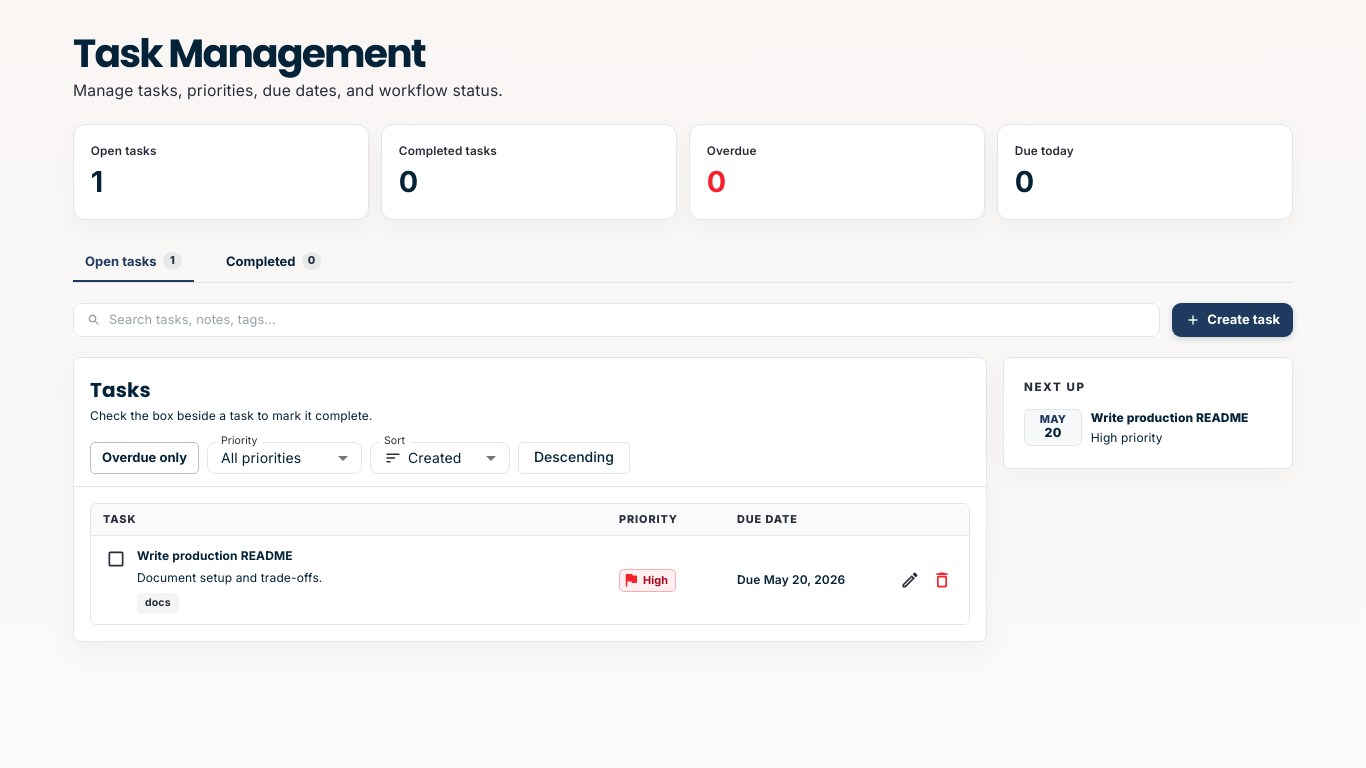
Task Management UI › rolls back an optimistic completion toggle when the API fails
The width and height of the screenshot is (1366, 768).
Click the checkbox named "Mark Write production README complete": (116, 559) [106,549,126,569]
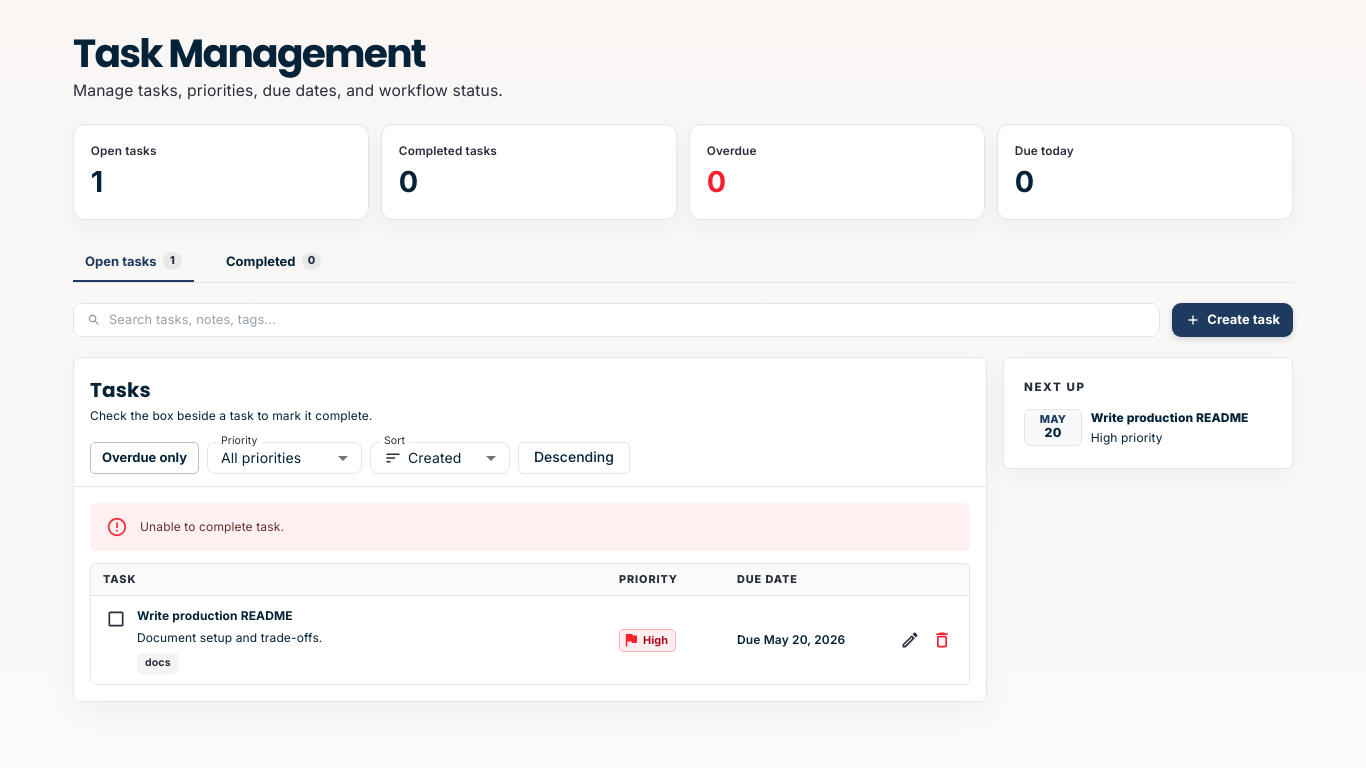
expect the checkbox named "Mark Write production README complete" is not checked: met, box [106,609,126,629]
expect the message reads "Unable to complete task.": met, box [140,519,284,534]
